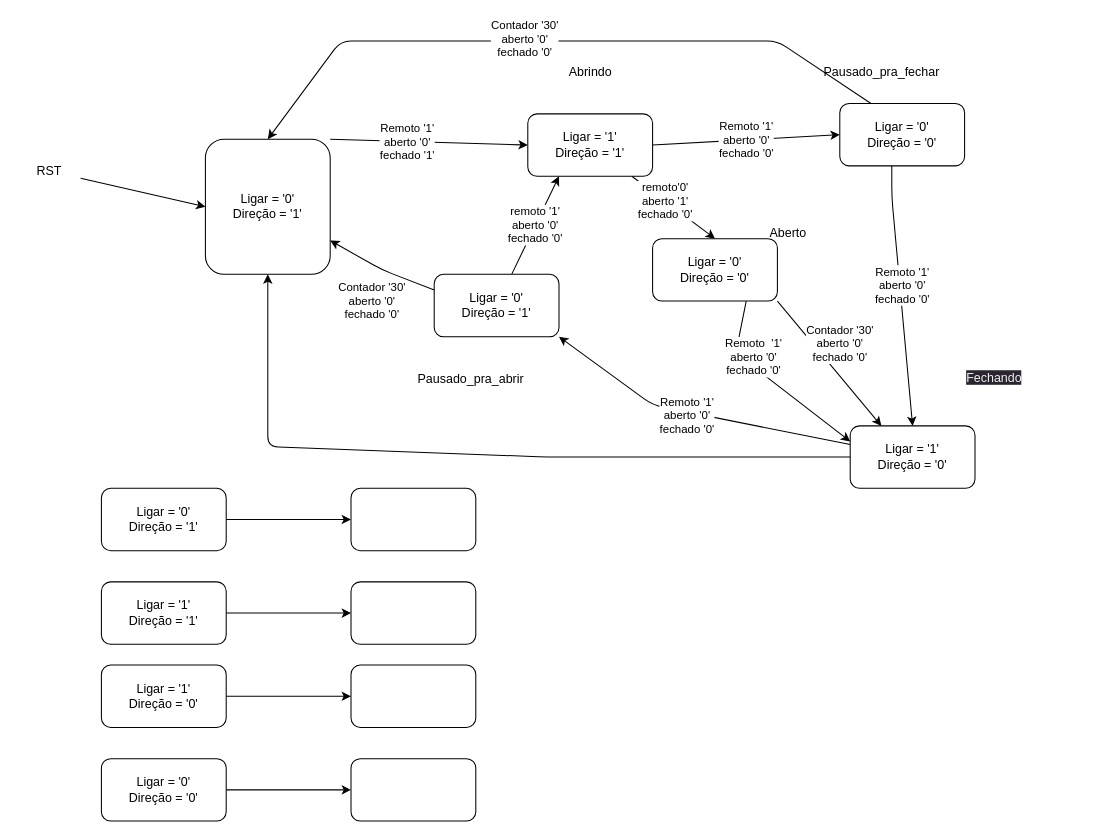
This 1107x839 diagram has some shape labels left out. The centre of each missing label's shape, as x and y in pixels:
case_a: point 413,519
case_b: point 413,612
case_c: point 413,695
case_d: point 413,789
